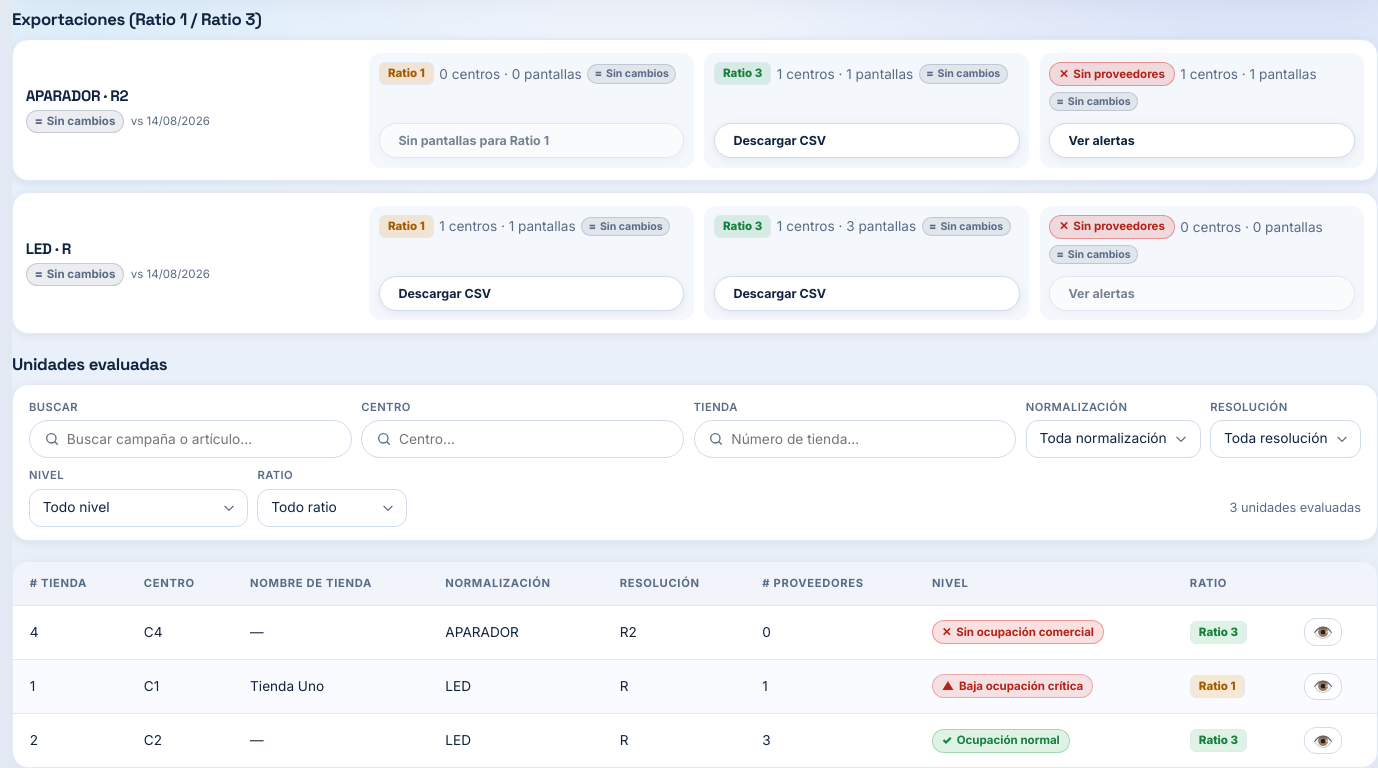
Test: LowOccupancyPage — tabla, filtros y detalle › filtra por ratio recomendado
(page scrolled)
expect the text "Tienda Uno" is shown: met, box x1=233 y1=659 x2=429 y2=714
Select "Ratio 1" in the dropdown named "Filtrar por ratio recomendado". click: (332, 508)
box: x1=258 y1=490 x2=406 y2=526
(page scrolled)
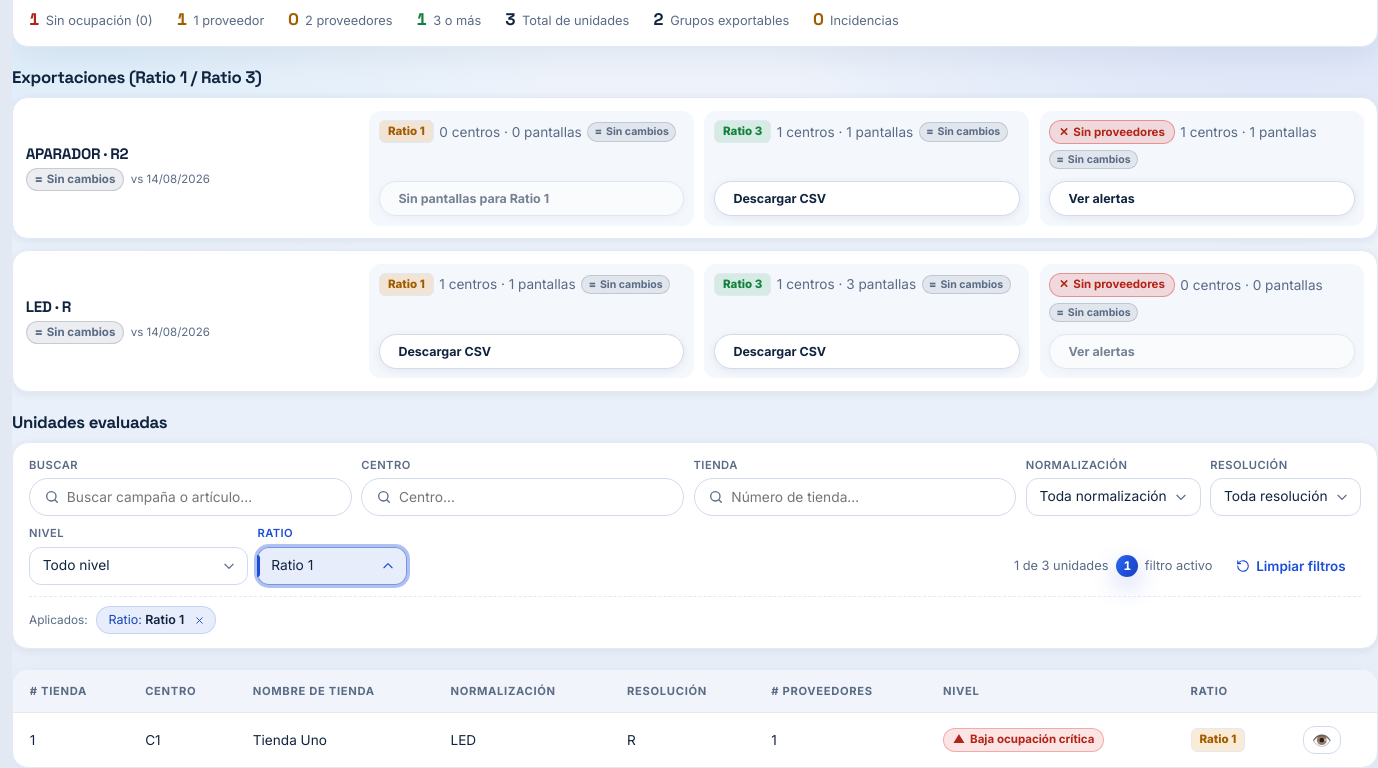
expect the text "1 de 3 unidades" is shown: met, box x1=1014 y1=556 x2=1108 y2=575
